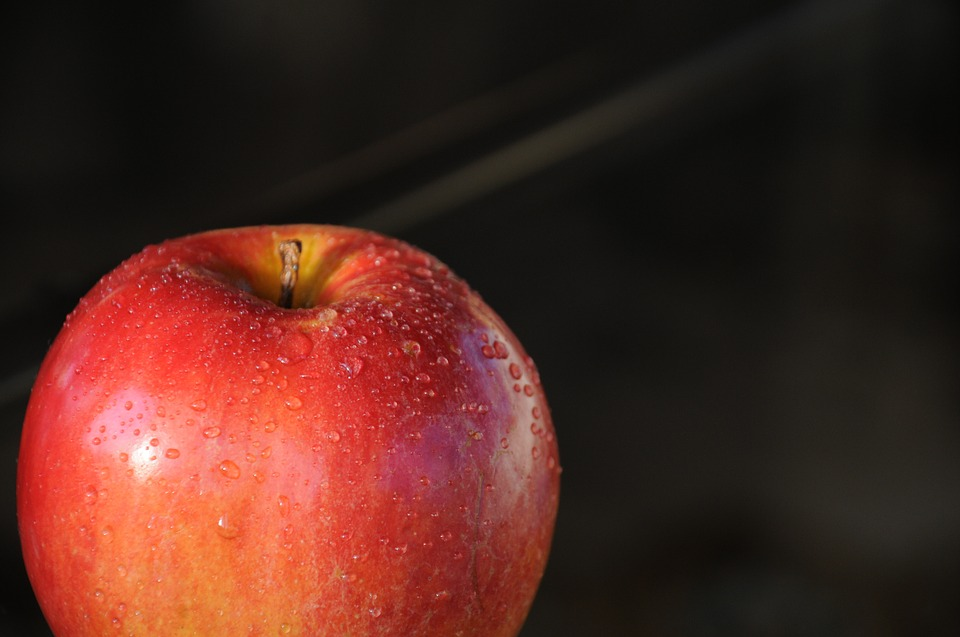apple: (16, 223, 562, 635)
